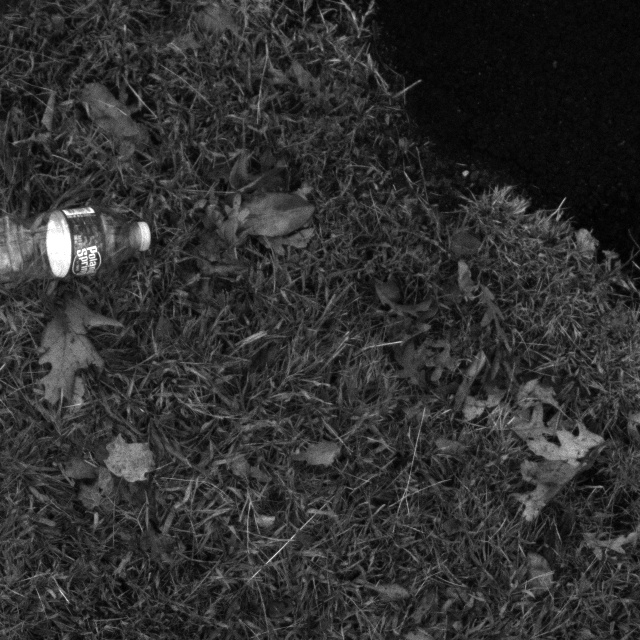bottle: (0, 194, 157, 297)
